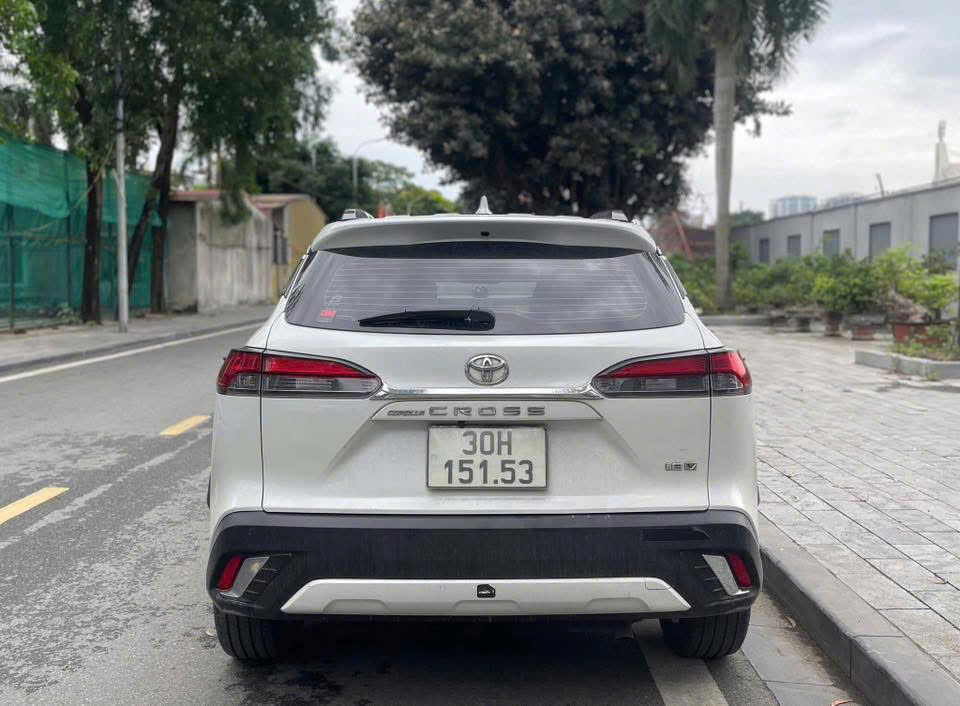Bien-so: (428, 430, 544, 490)
